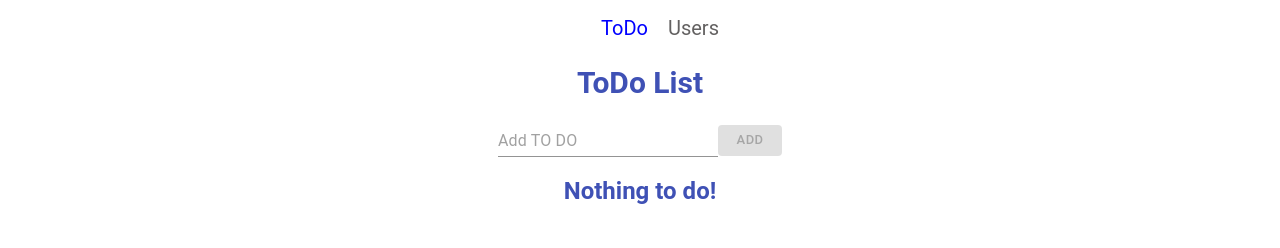
Scenario: Test todo app › Mock the http request
Click the link "Users" at (694, 28), box [668,16,719,40]
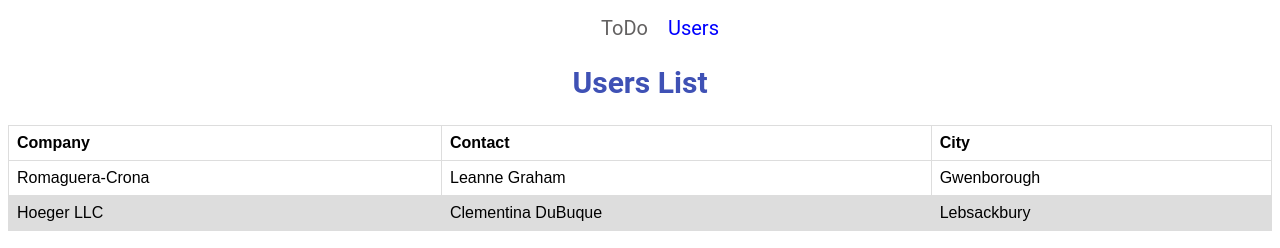
Now the table is shown, box [8,125,1272,231]
